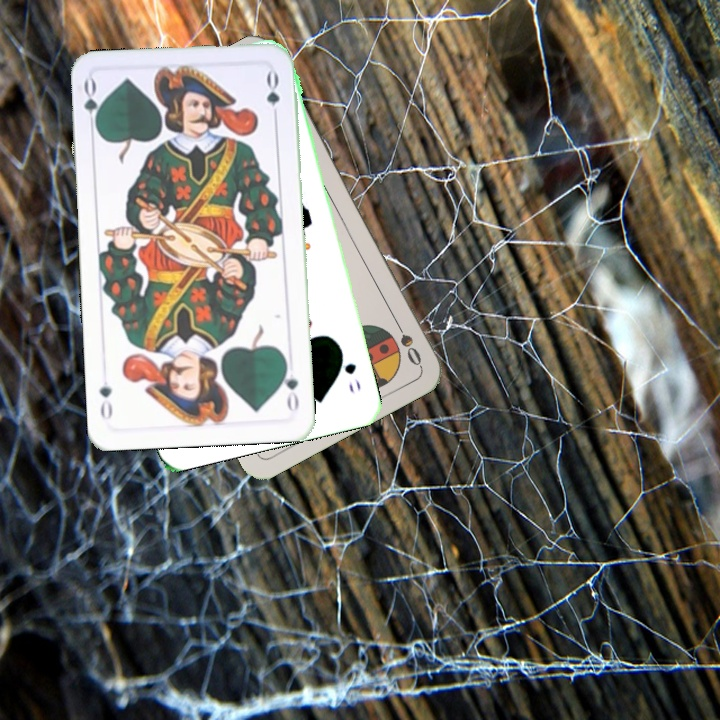GO: (80, 76, 105, 135), (336, 344, 364, 396), (278, 356, 301, 415)
SO: (389, 314, 424, 369)
